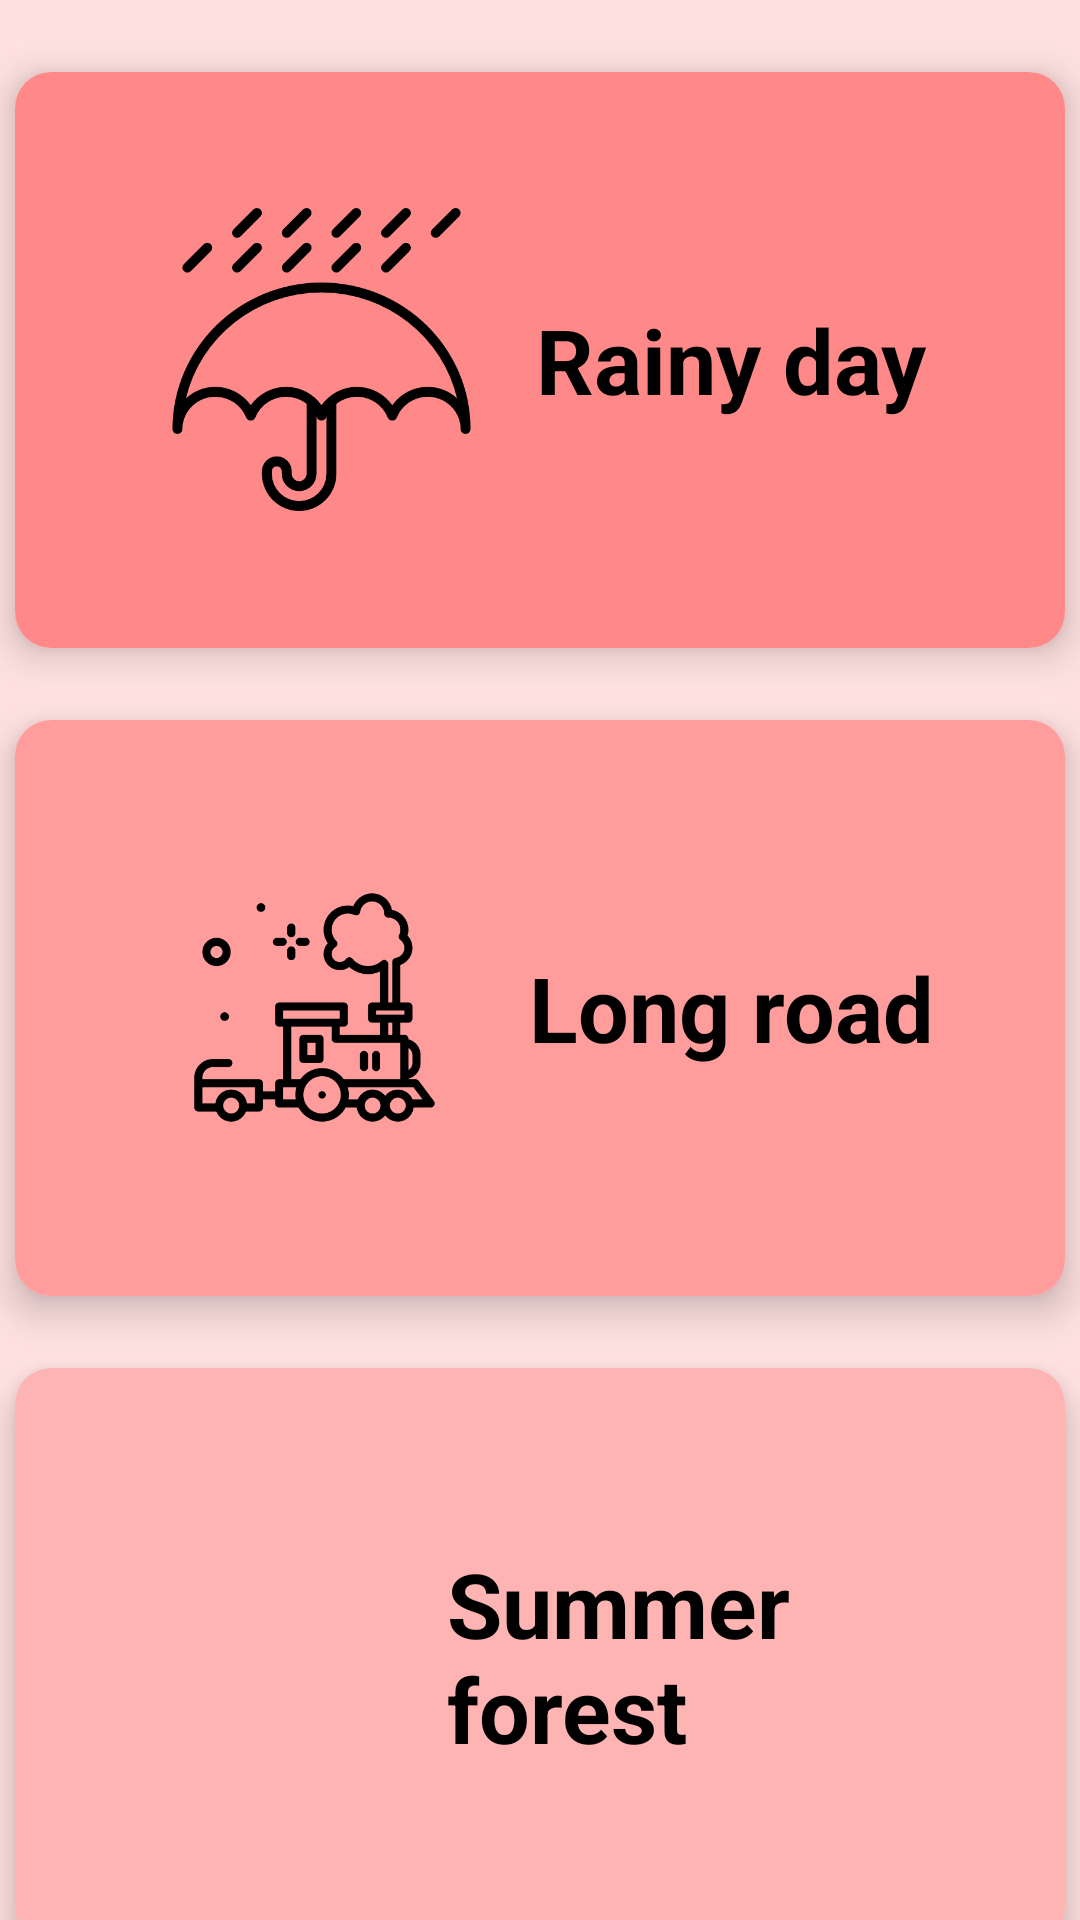

Where icons sit on this 1080*1920 app screen, as [x1=x1, y1=y1, x2=x2, y2=y2]:
Rain image: [x1=172, y1=208, x2=471, y2=511]
train: [x1=194, y1=893, x2=435, y2=1122]
